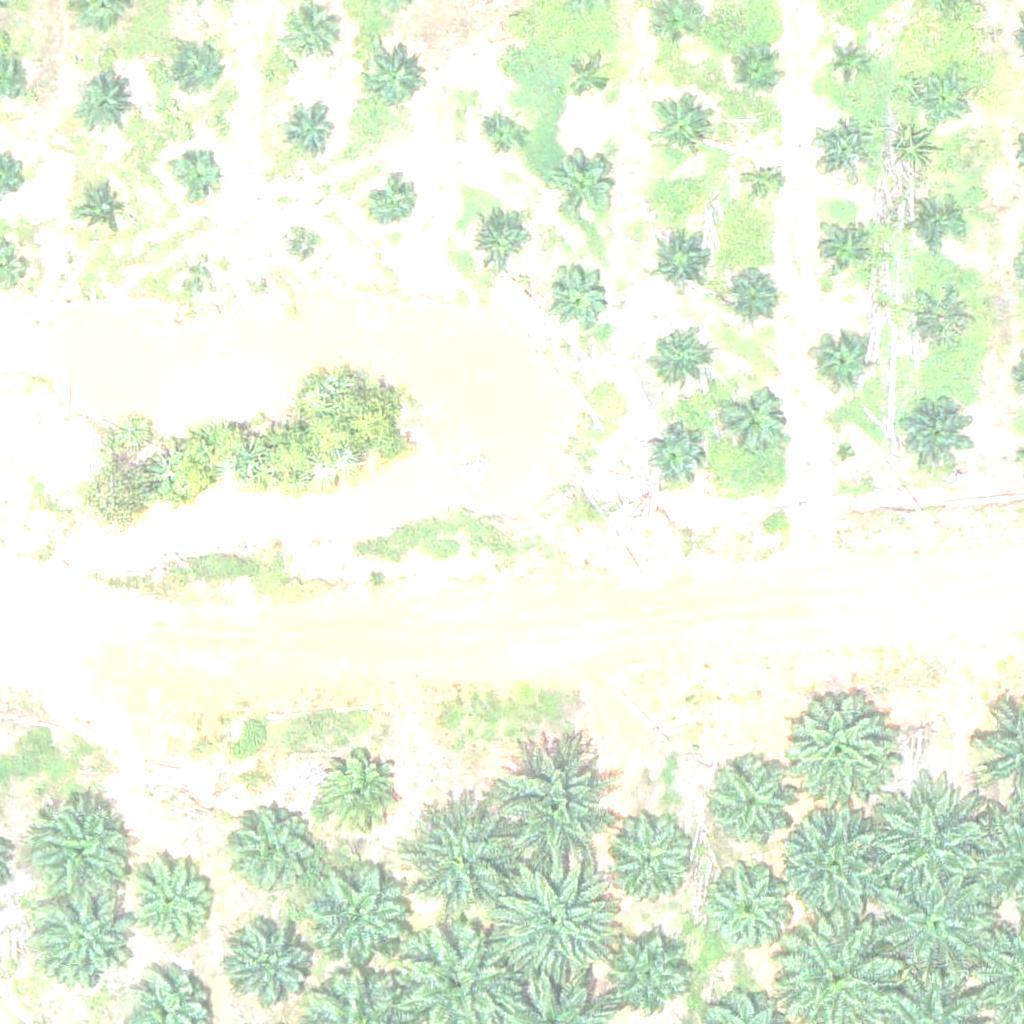Kelapa_Sawit: (875, 864, 1000, 990), (869, 784, 994, 910), (773, 804, 898, 930), (495, 737, 620, 863), (490, 858, 615, 984), (404, 793, 529, 919), (778, 690, 891, 804), (311, 865, 411, 966), (34, 889, 134, 990), (30, 796, 130, 897), (598, 806, 698, 906), (233, 806, 321, 894), (126, 861, 214, 949), (710, 862, 797, 950), (709, 763, 796, 851), (603, 935, 690, 1023), (313, 749, 400, 837), (227, 925, 314, 1013), (897, 395, 972, 471), (711, 382, 786, 458), (810, 112, 873, 175), (547, 153, 610, 216), (72, 76, 135, 139), (644, 330, 707, 393), (543, 262, 606, 325), (811, 331, 874, 394), (643, 427, 706, 490), (646, 94, 708, 157), (363, 42, 425, 105), (281, 5, 343, 68), (910, 290, 972, 353), (466, 207, 528, 270), (651, 232, 713, 294), (718, 260, 780, 322), (916, 77, 966, 128), (170, 143, 220, 194), (174, 44, 224, 95), (77, 186, 127, 237), (911, 199, 961, 249), (285, 109, 335, 159), (366, 176, 416, 226), (815, 222, 865, 272), (731, 47, 781, 97), (562, 56, 612, 106), (477, 113, 527, 163), (747, 168, 785, 206), (826, 43, 863, 81), (291, 229, 316, 254), (501, 6, 526, 31), (196, 263, 221, 288)
